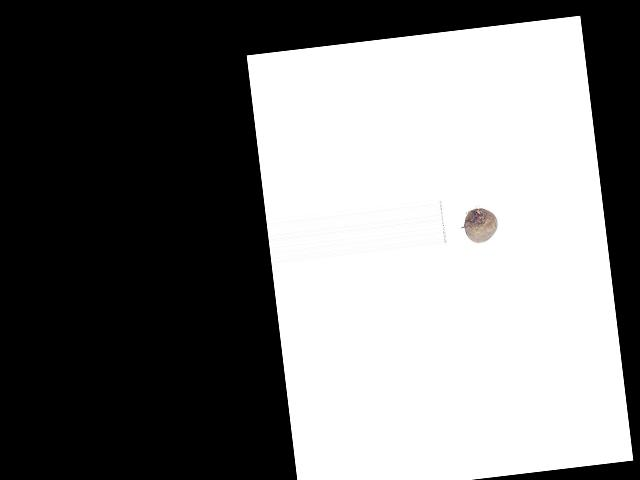beet: (462, 207, 499, 245)
